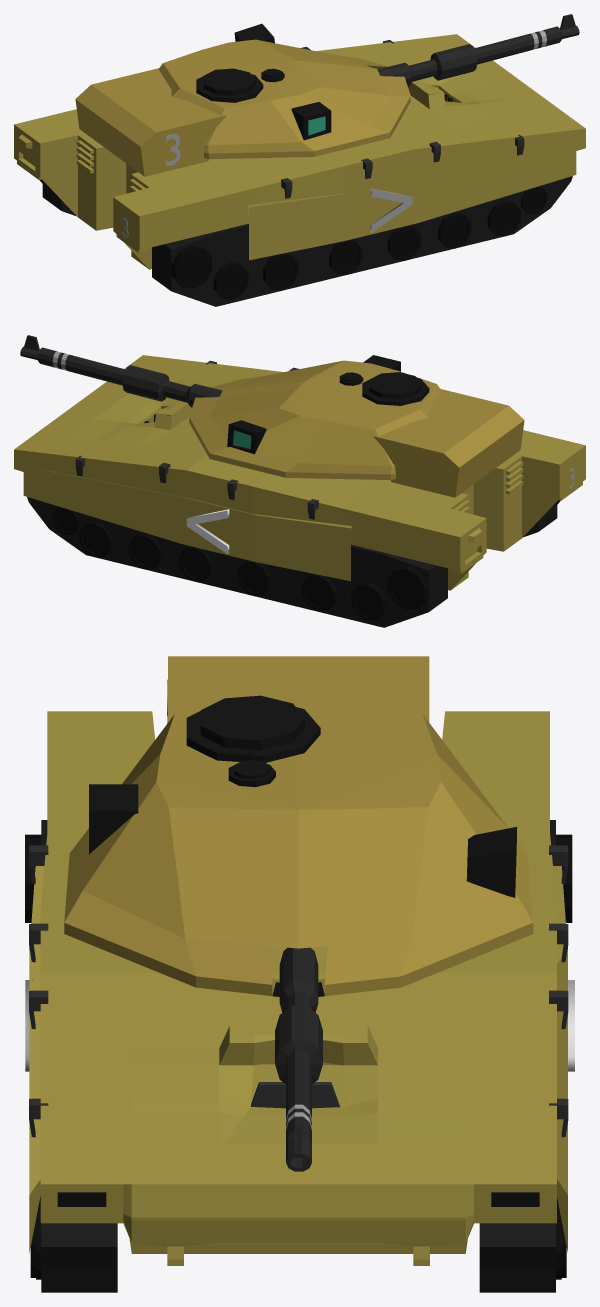
The model's file is MERKAVA MK4.fbx.
The picture shows the model from 3 angles, top to bottom: view 1: azimuth 30°, elevation 25°; view 2: azimuth 150°, elevation 25°; view 3: azimuth 270°, elevation 25°; orthographic projection. The views are drawn at different scales.
Visible parts, largest first — view 1: Cube, Circle, Cube.001, Cylinder, Circle.001, Text; view 2: Cube, Circle, Cube.001, Cylinder, Circle.001, Text.001; view 3: Cube, Circle, Cube.001, Circle.001, Cylinder, Cube.005.
Boxes of the visible parts, left/top/right/bottom form: Cube: left=14, top=34, right=585, bottom=269; Circle: left=75, top=39, right=410, bottom=176; Cube.001: left=39, top=176, right=572, bottom=306; Cylinder: left=377, top=14, right=579, bottom=86; Circle.001: left=196, top=23, right=331, bottom=140; Text: left=370, top=188, right=412, bottom=232; Cube: left=14, top=355, right=585, bottom=590; Circle: left=189, top=360, right=524, bottom=497; Cube.001: left=27, top=497, right=559, bottom=627; Cylinder: left=20, top=335, right=222, bottom=407; Circle.001: left=227, top=355, right=429, bottom=454; Text.001: left=186, top=509, right=229, bottom=554; Cube: left=29, top=711, right=568, bottom=1265; Circle: left=64, top=656, right=533, bottom=996; Cube.001: left=25, top=820, right=572, bottom=1292; Circle.001: left=89, top=695, right=516, bottom=897; Cylinder: left=275, top=947, right=322, bottom=1171; Cube.005: left=251, top=1082, right=339, bottom=1108.
Bounding box in the file's own units: 397 × 130 × 187.
